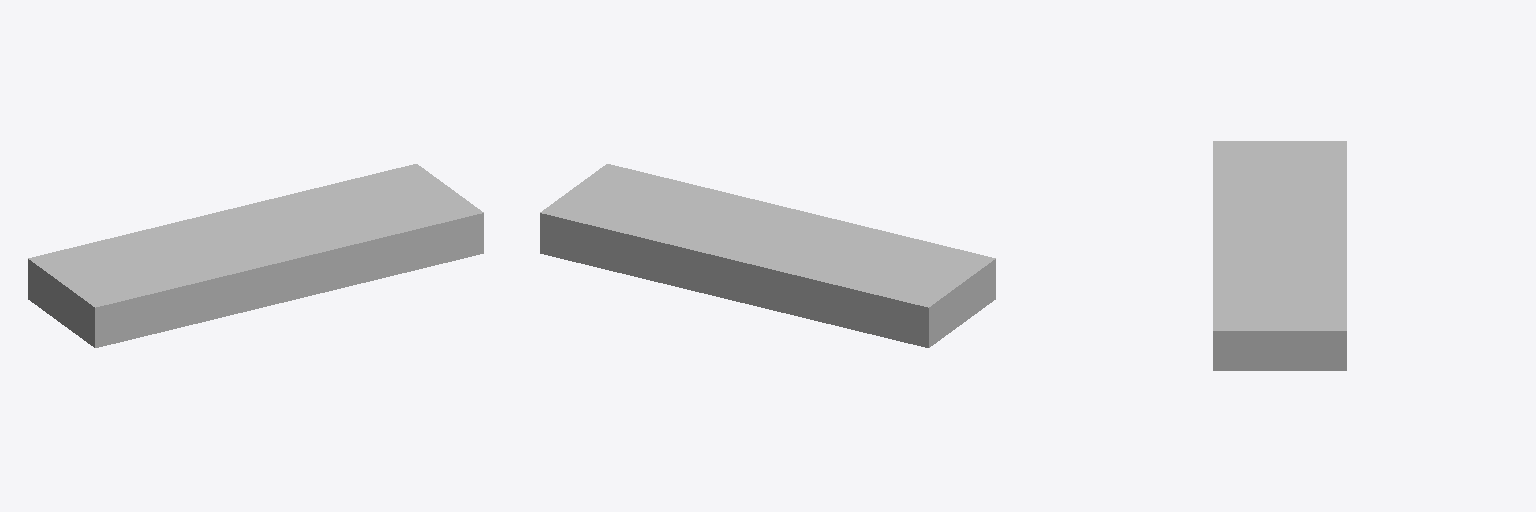
The model's file is StraightRiver.obj.
3 views of the same model, side by side, from view 1: azimuth 30°, elevation 25°; view 2: azimuth 150°, elevation 25°; view 3: azimuth 270°, elevation 25° (orthographic).
Visible parts, largest first — view 1: StraightRiver_Cube; view 2: StraightRiver_Cube; view 3: StraightRiver_Cube.
Boxes of the visible parts, box(x1,y1,x2,y2) form: StraightRiver_Cube: box(28, 164, 483, 347); StraightRiver_Cube: box(540, 164, 995, 347); StraightRiver_Cube: box(1213, 141, 1346, 370).
Size of the model in its own units: 20 by 2 by 6.